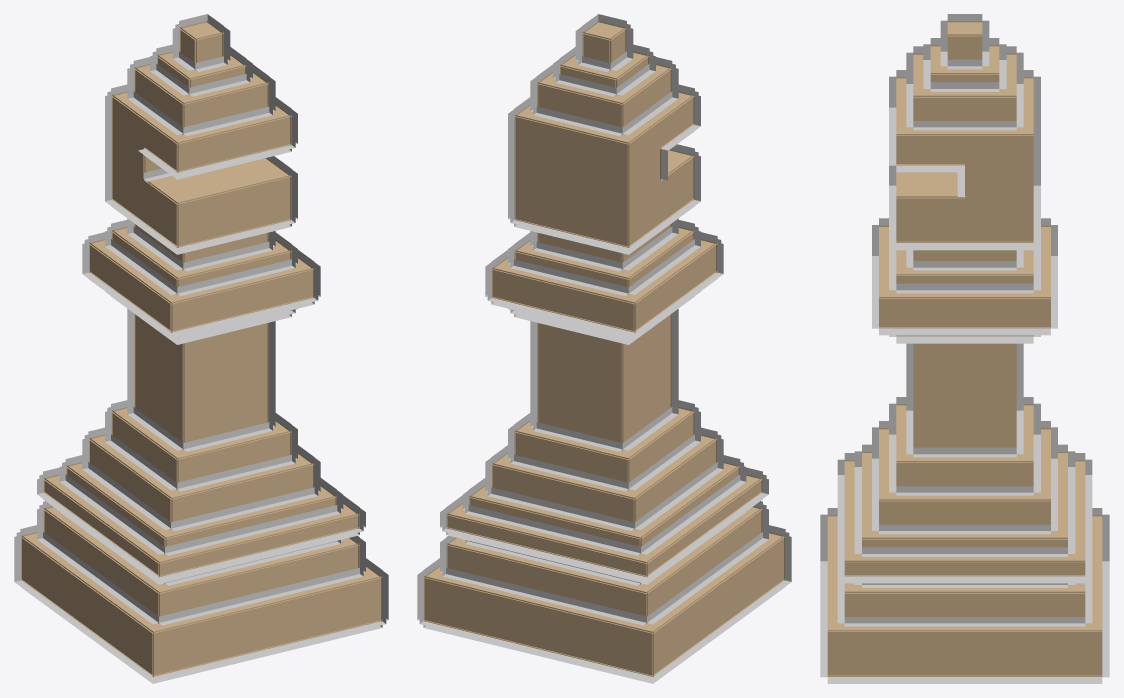
The model's file is tan-bishop.glb.
3 views of the same model, side by side, from view 1: azimuth 30°, elevation 25°; view 2: azimuth 150°, elevation 25°; view 3: azimuth 270°, elevation 25° (orthographic). The views are drawn at different scales.
Visible parts, largest first — view 1: chess-bishop-tan_model; view 2: chess-bishop-tan_model; view 3: chess-bishop-tan_model.
Boxes of the visible parts, bbox=[...] form: chess-bishop-tan_model: bbox=[14, 14, 388, 683]; chess-bishop-tan_model: bbox=[417, 14, 791, 683]; chess-bishop-tan_model: bbox=[820, 14, 1109, 683].
Bounding box in the file's own units: 1.68 × 3.88 × 1.68.
2 materials, 1 textured.
